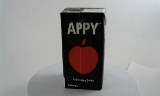appy: (54, 5, 99, 91)
